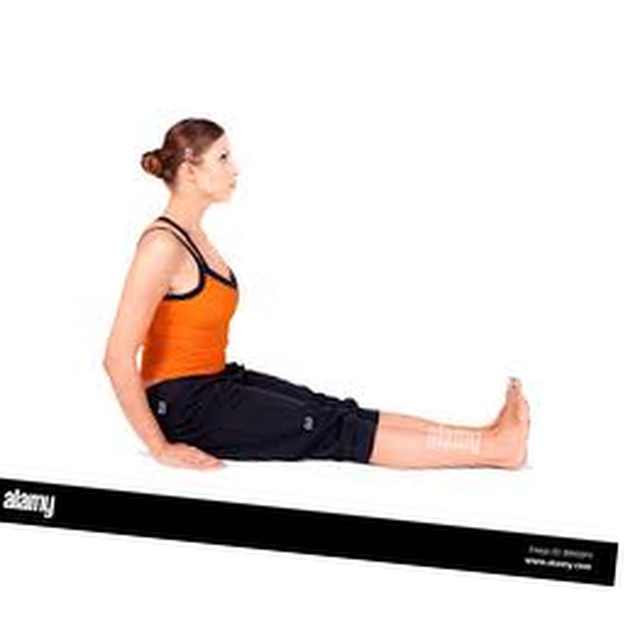Staff_Pose: (103, 117, 532, 472)
